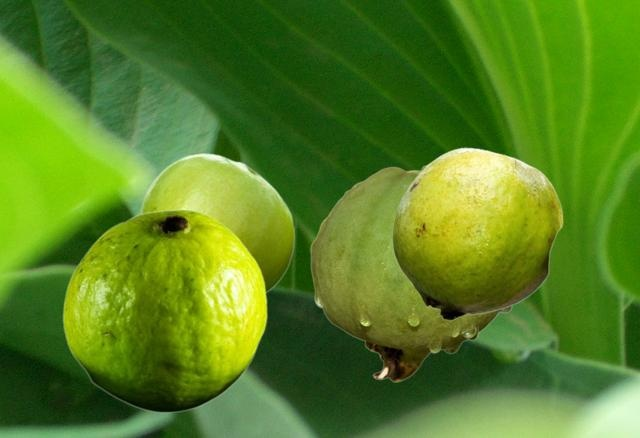guava: (310, 164, 512, 381), (62, 209, 266, 412), (392, 147, 562, 320), (138, 153, 294, 293)
